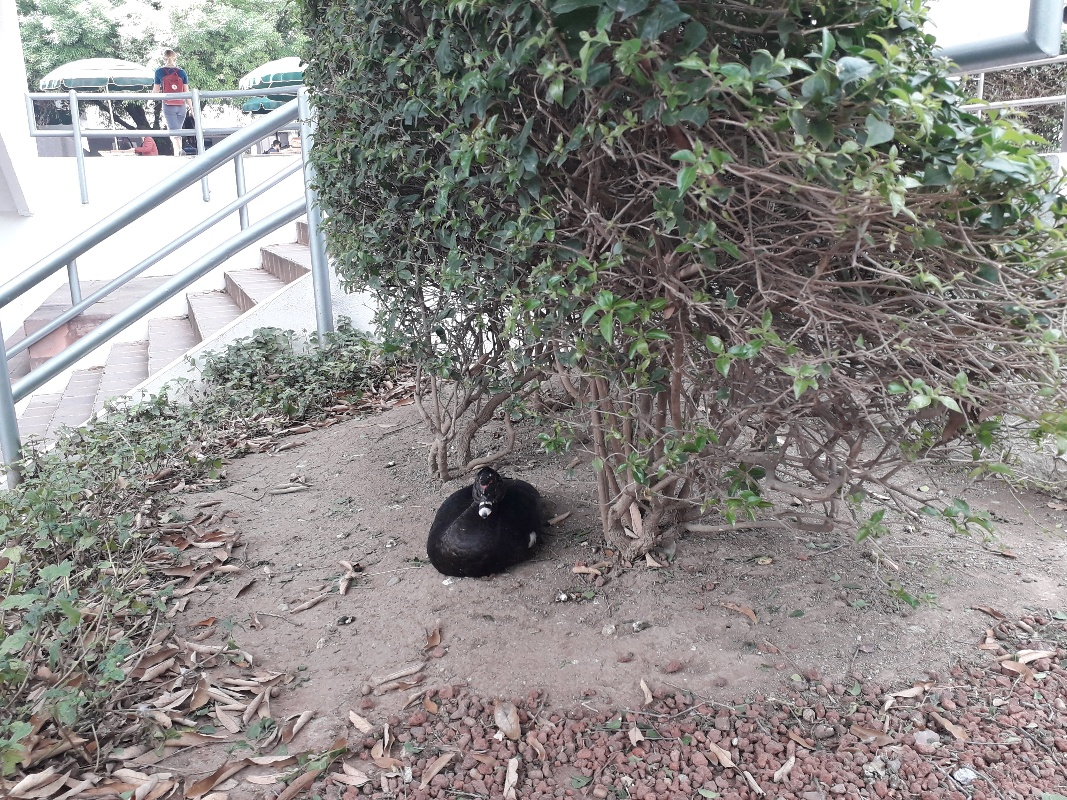pato: (427, 463, 541, 579)
